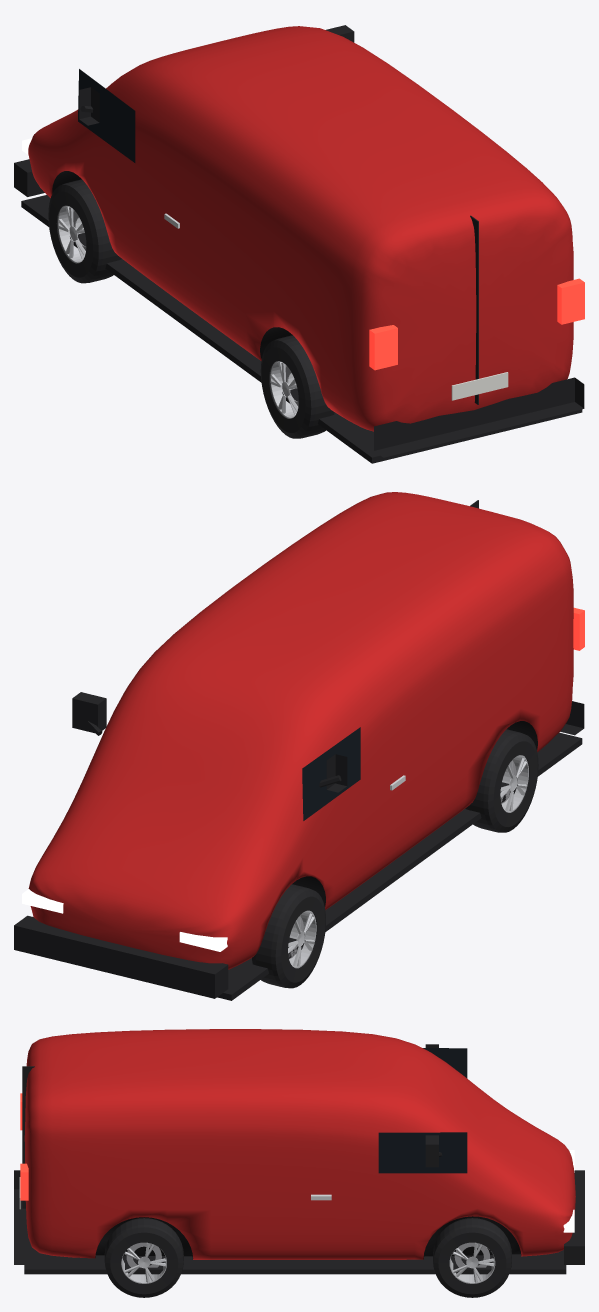
The model's file is van.glb.
3 renders of one model, top to bottom at view 1: azimuth 30°, elevation 25°; view 2: azimuth 150°, elevation 25°; view 3: azimuth 270°, elevation 25°, orthographic. The views are drawn at different scales.
Visible parts, largest first — view 1: body, wheel_rl, wheel_fl; view 2: body, wheel_fl, wheel_rl; view 3: body, wheel_rr, wheel_fr.
Boxes of the visible parts, <box> form: body: <box>14,25,584,463</box>; wheel_rl: <box>260,335,334,438</box>; wheel_fl: <box>48,179,121,283</box>; body: <box>14,492,584,1000</box>; wheel_fl: <box>252,884,325,988</box>; wheel_rl: <box>465,729,538,832</box>; body: <box>14,1029,584,1274</box>; wheel_rr: <box>104,1218,183,1297</box>; wheel_fr: <box>433,1218,511,1297</box>.
Size of the model in its own units: 2.28 by 2.12 by 5.48.
